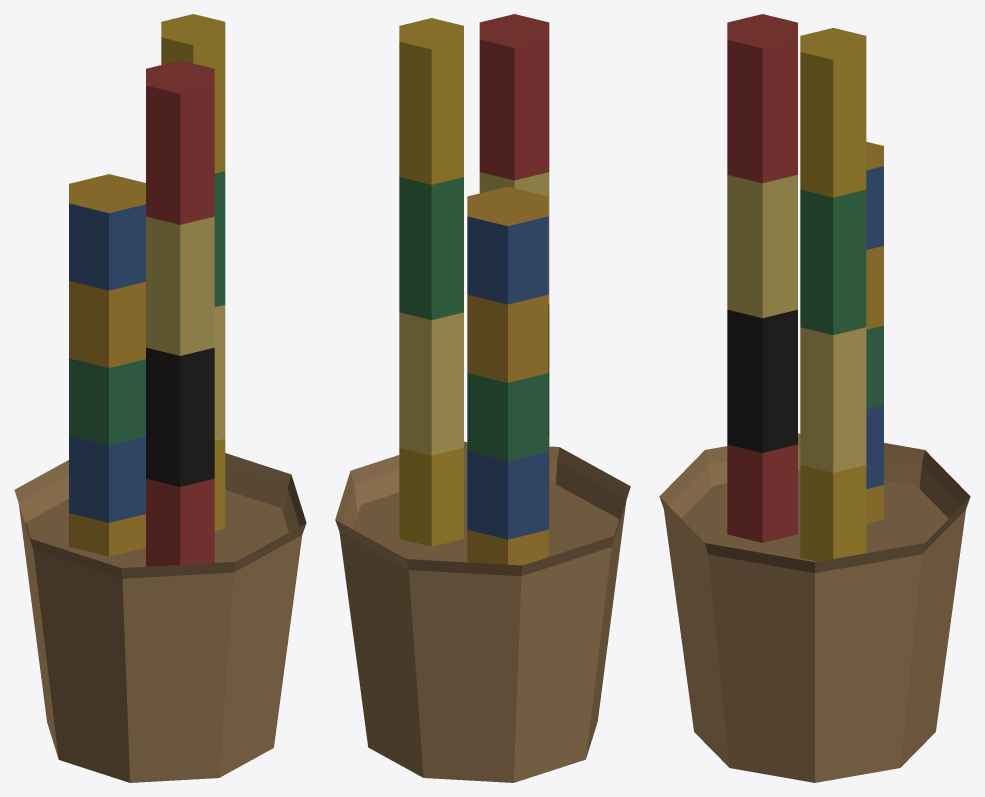
The model's file is kente-throw-roll-13.glb.
The picture shows the model from 3 angles, left to right: view 1: azimuth 30°, elevation 25°; view 2: azimuth 150°, elevation 25°; view 3: azimuth 270°, elevation 25°; orthographic projection. The views are drawn at different scales.
Parts seen in each view (by area): view 1: kente_throw_roll_13; view 2: kente_throw_roll_13; view 3: kente_throw_roll_13.
Part boxes in pixels (bbox=[...]): kente_throw_roll_13: bbox=[14, 14, 306, 782]; kente_throw_roll_13: bbox=[335, 14, 630, 782]; kente_throw_roll_13: bbox=[659, 14, 970, 782].
Size of the model in its own units: 0.4387 by 1.1 by 0.4387.
